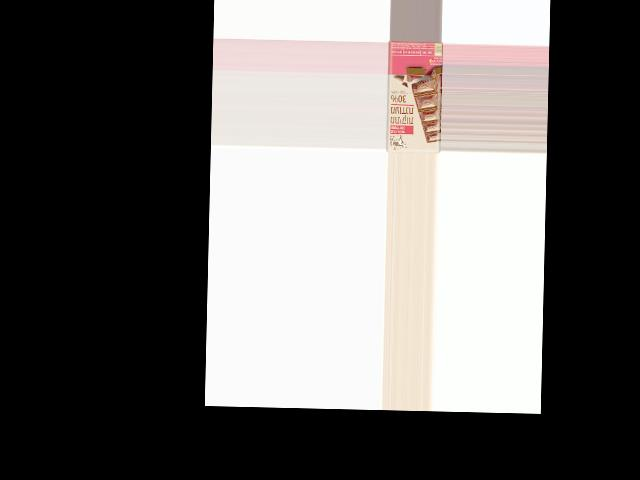chocolate: (385, 41, 442, 153)
